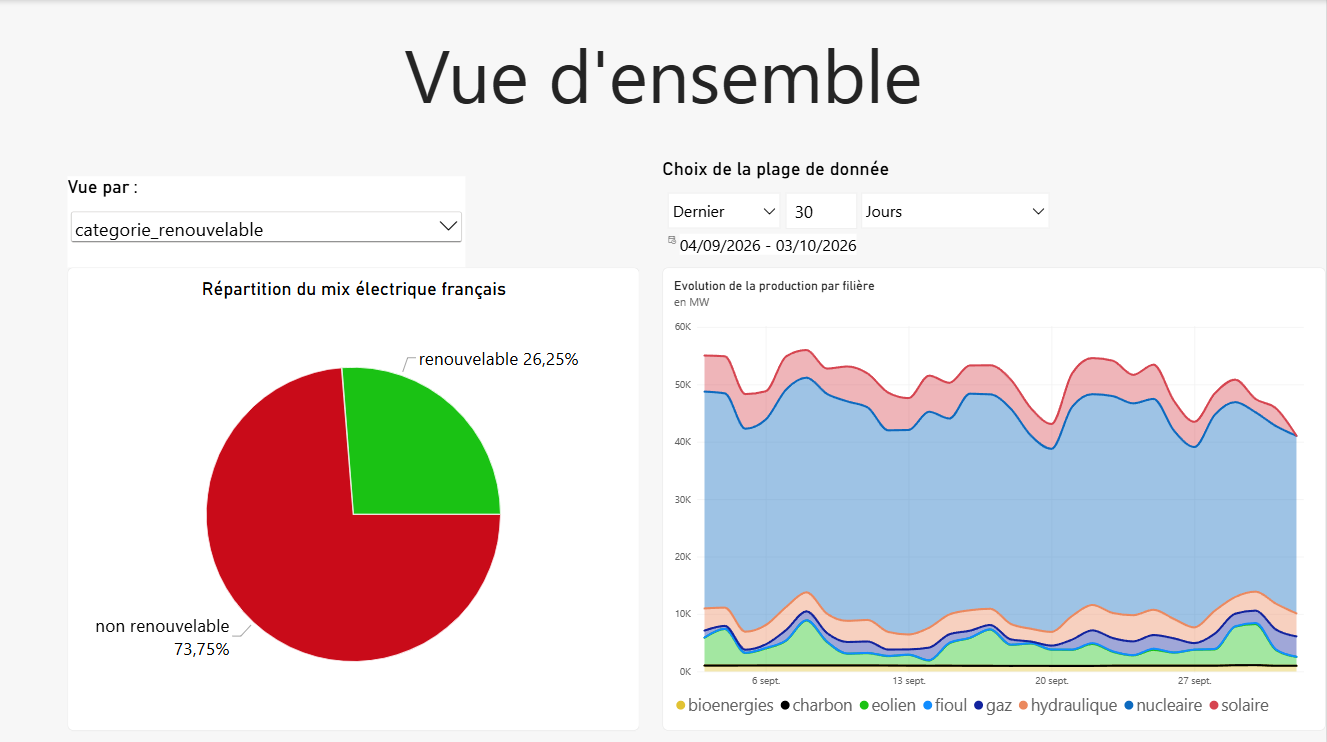

The dashboard page shown, as its layout file describes it:
{"tool":"powerbi","page":{"name":"Vue d'ensemble","canvas":[1920,1080],"ordinal":0},"visuals":[{"type":"pieChart","title":"Répartition du mix électrique français","fields":{"Category":["production_par_filiere.categorie_renouvelable"],"Y":["Avg(production_par_filiere.Valeur)"]},"box":[98,388,828,670],"z":0},{"type":"stackedAreaChart","title":"Evolution de la production par filière ","fields":{"Category":["production_par_filiere.date"],"Series":["production_par_filiere.filière"],"Y":["Avg(production_par_filiere.Valeur)"]},"box":[960,388,960,670],"z":1000},{"type":"slicer","title":"Vue par :","fields":{"Values":["choix_categorisation.choix_categorisation"]},"box":[98,256,576,132],"z":2000},{"type":"textbox","box":[0,35,1920,150],"z":3000},{"type":"slicer","title":"Choix de la plage de donnée","fields":{"Values":["production_par_filiere.date_heure"]},"box":[960,228.3,570,160],"z":3001}]}

Visuals, with their boxes in screenshot pixels (x1, y1, x2, y2), scaled from the page's 1920x1080 canvas onto the 1327x742 screenshot:
"Répartition du mix électrique français" pieChart: 68 267 640 727
"Evolution de la production par filière " stackedAreaChart: 664 267 1326 727
"Vue par :" slicer: 68 176 466 267
textbox: 0 24 1326 127
"Choix de la plage de donnée" slicer: 664 157 1057 267
